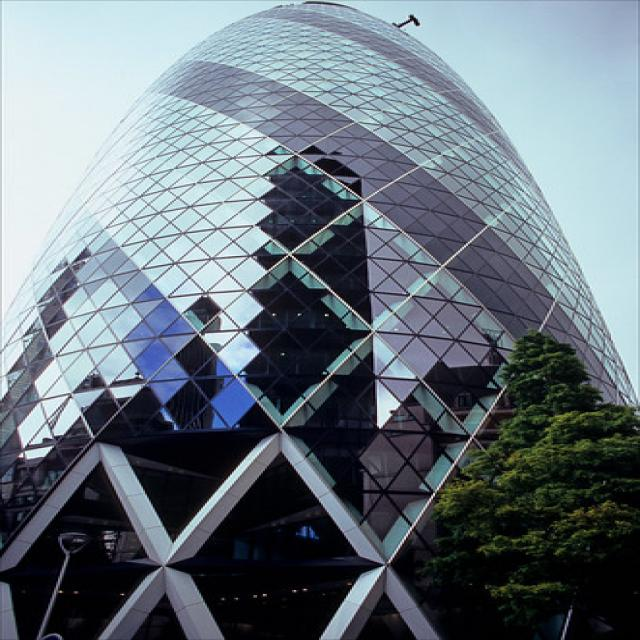Normal_building: (11, 6, 640, 639)
